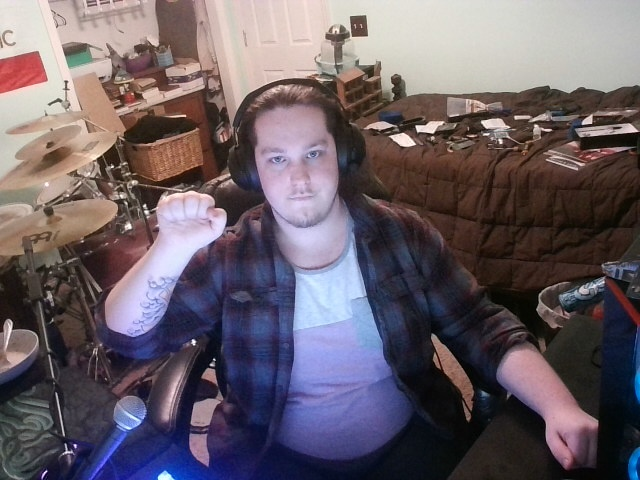yes: (141, 180, 239, 270)
